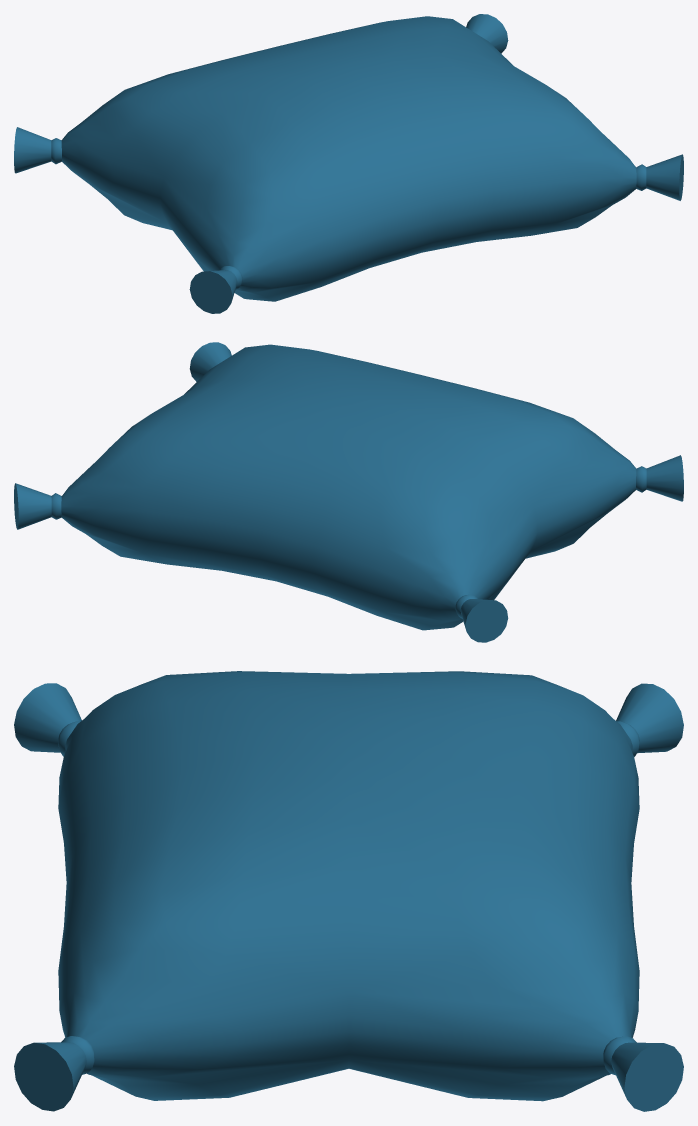
Rendered from (Prop)Square-Pillow.fbx.
3 renders of one model, top to bottom at view 1: azimuth 30°, elevation 25°; view 2: azimuth 150°, elevation 25°; view 3: azimuth 270°, elevation 25°, orthographic. The views are drawn at different scales.
Parts seen in each view (by area): view 1: Pillow; view 2: Pillow; view 3: Pillow.
Part boxes in pixels (box(x1,y1,x2,y2)): Pillow: box(14, 14, 683, 313); Pillow: box(14, 342, 683, 642); Pillow: box(14, 671, 683, 1111).
Size of the model in its own units: 62.05 by 17.98 by 46.49.
